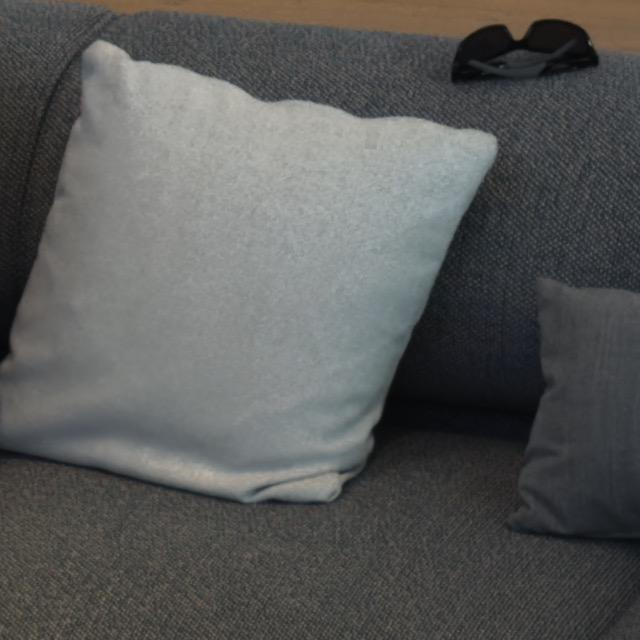Sunglasses: (448, 16, 600, 83)
